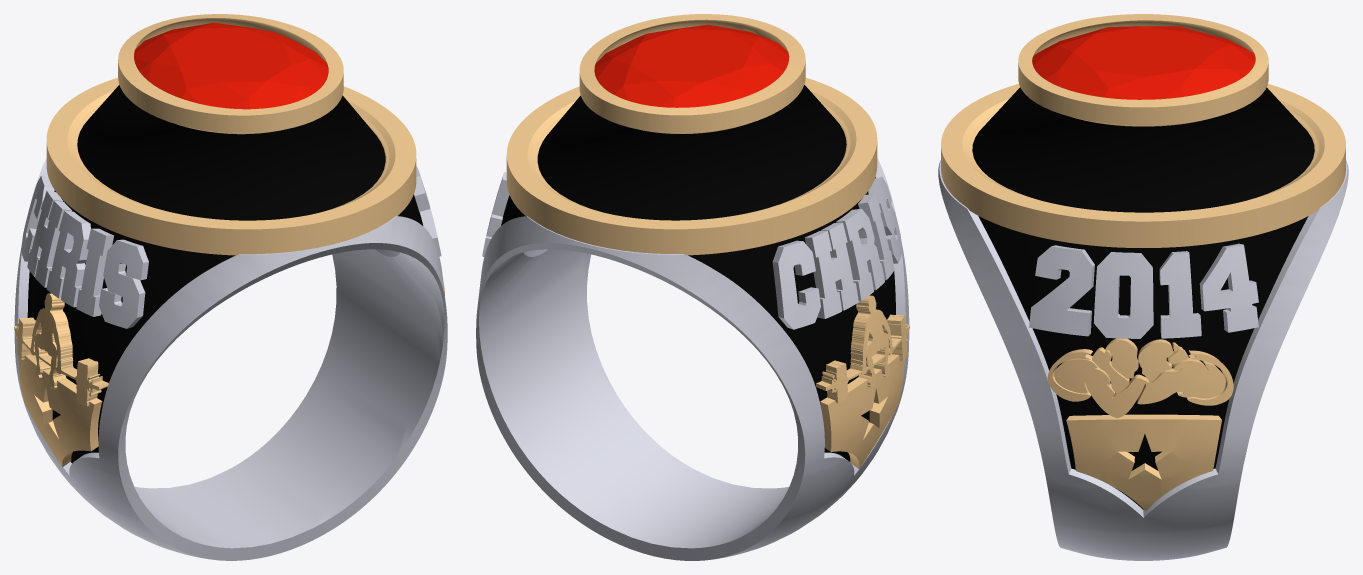
File: ClassRingTextRemoved.fbx
3 renders of one model, left to right at view 1: azimuth 30°, elevation 25°; view 2: azimuth 150°, elevation 25°; view 3: azimuth 270°, elevation 25°, orthographic.
Parts seen in each view (by area): view 1: ClassRing_LOD0, ClassRing_Gemstone; view 2: ClassRing_LOD0, ClassRing_Gemstone; view 3: ClassRing_LOD0, ClassRing_Gemstone.
Boxes of the visible parts, left/top/right/bottom form: ClassRing_LOD0: left=14, top=14, right=447, bottom=560; ClassRing_Gemstone: left=134, top=22, right=328, bottom=109; ClassRing_LOD0: left=476, top=14, right=909, bottom=560; ClassRing_Gemstone: left=594, top=24, right=789, bottom=107; ClassRing_LOD0: left=938, top=14, right=1348, bottom=560; ClassRing_Gemstone: left=1032, top=26, right=1255, bottom=99.
Size of what is drawn, in the model's own units: 2.24 by 2.78 by 2.11.
